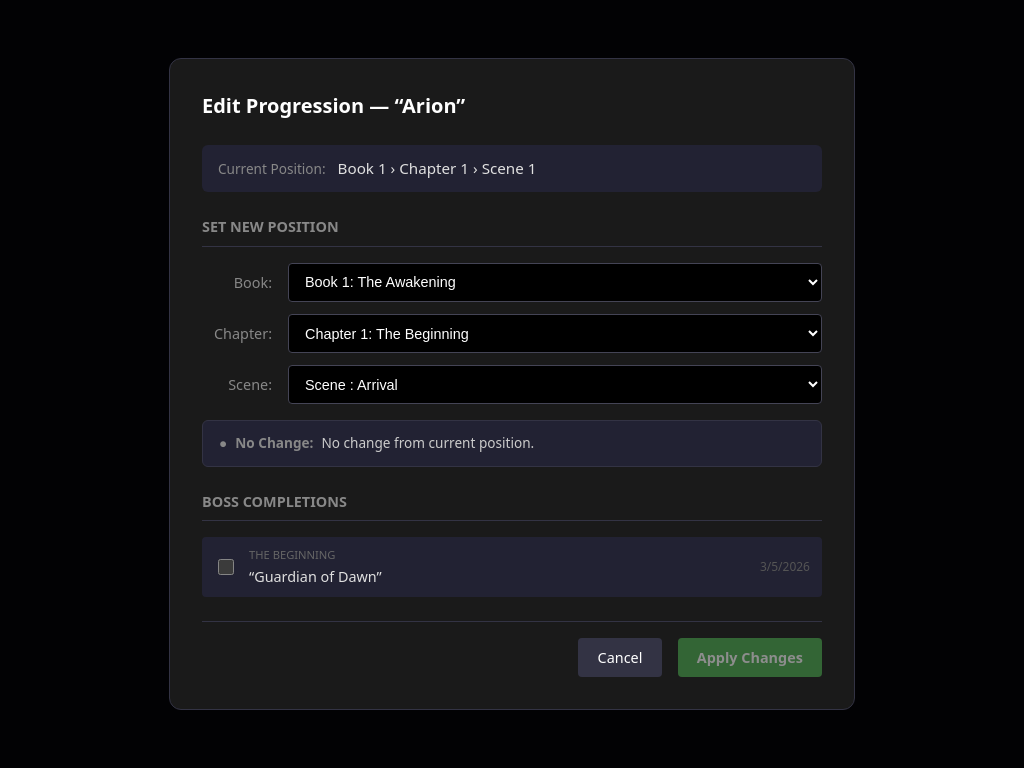
Test: ProgressionEditorModal › shows advancing/rewinding indicator when position changes
This screenshot has width=1024, height=768.
Change to chapter 2 (advancing)
Select "Chapter 2: Into Darkness" in the dropdown labelled "Chapter:". click: (555,334)
box: [288,314,822,353]
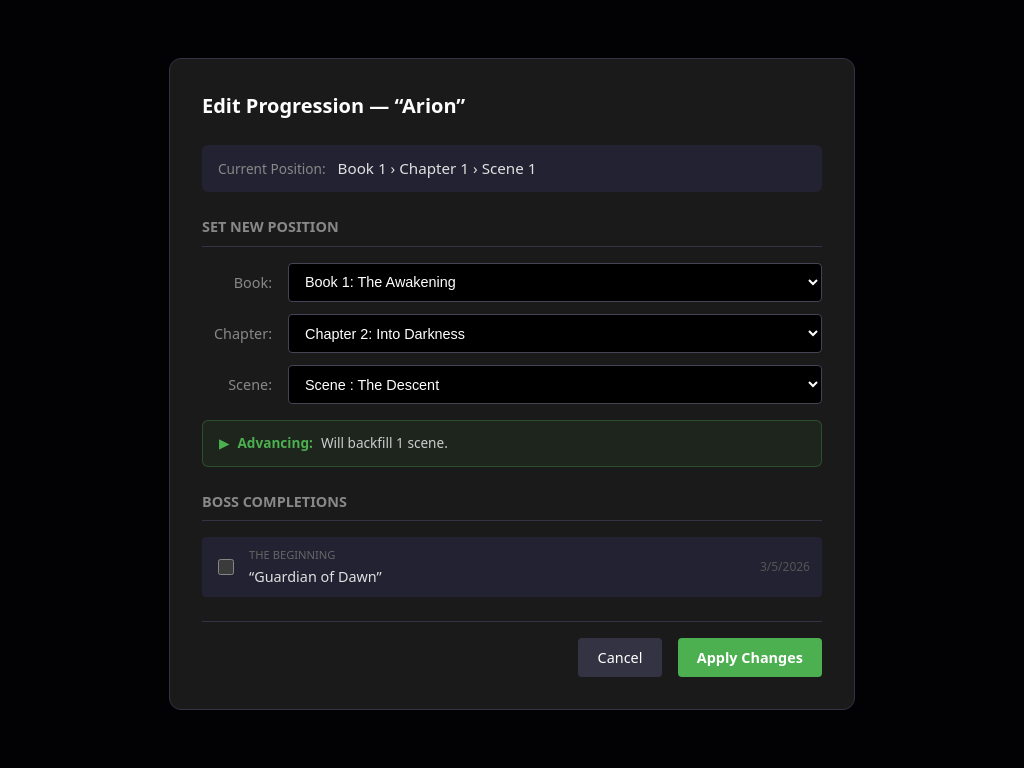
Expected: the text "Advancing:" is shown, [238,433,313,454]
